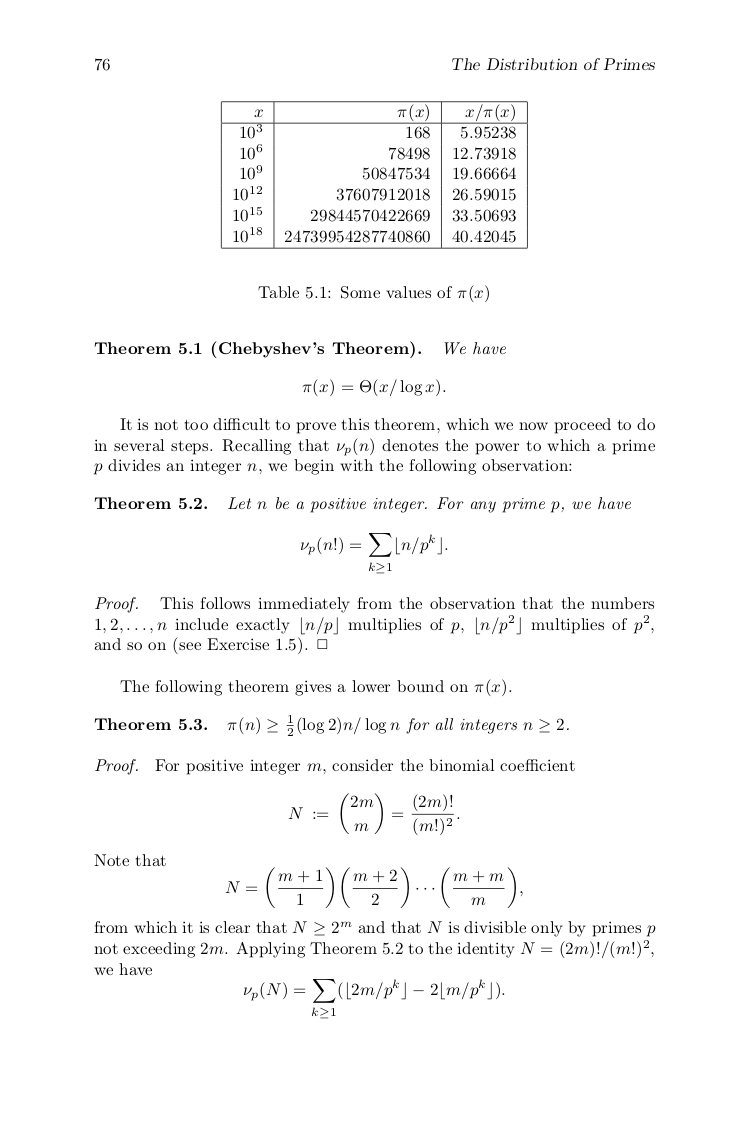Table: (220, 100, 527, 249)
formula: (225, 867, 522, 907), (244, 979, 504, 1018), (288, 792, 459, 836), (301, 533, 447, 573), (302, 378, 445, 397)
